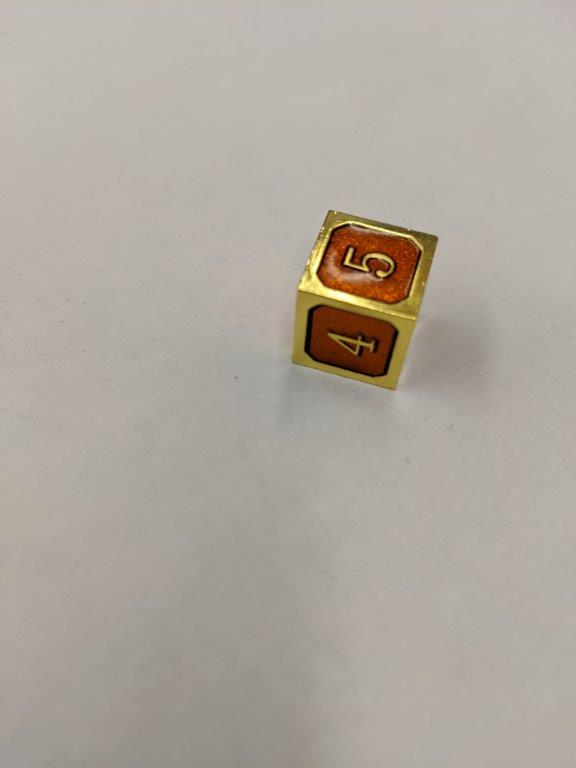d6-5: (287, 200, 438, 390)
